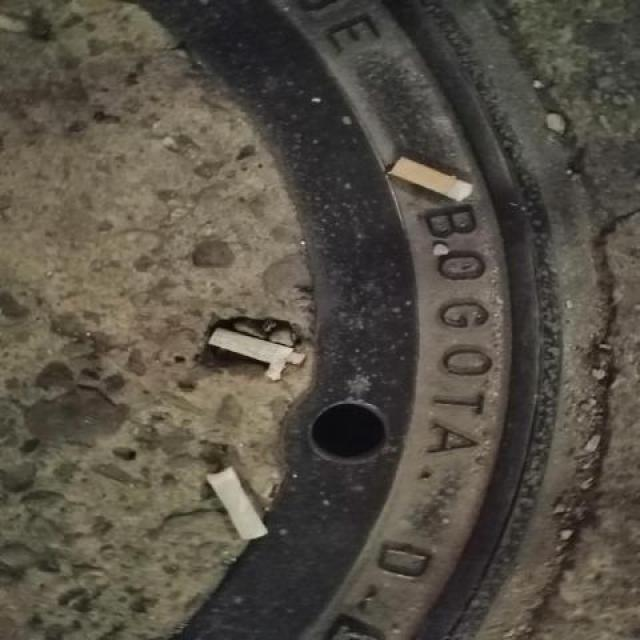non-organic waste: (203, 463, 273, 545), (384, 152, 477, 209), (206, 324, 297, 369)
